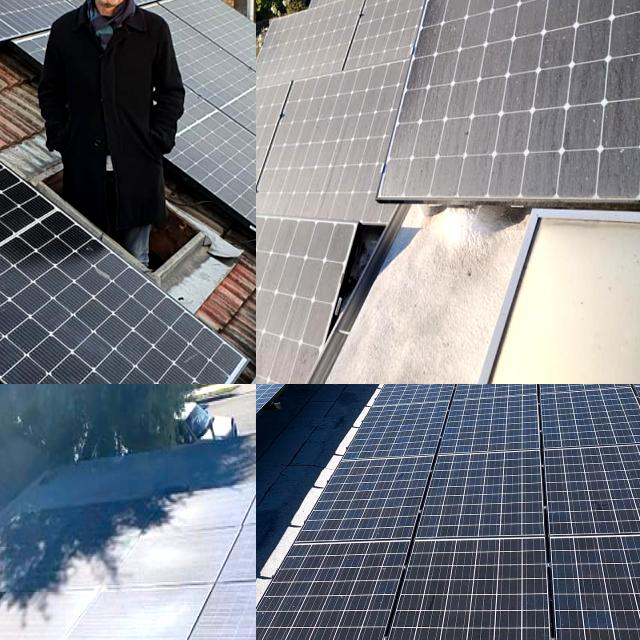crack: (0, 254, 192, 384), (0, 194, 80, 311), (67, 339, 172, 384), (211, 133, 256, 207)
dust: (429, 0, 640, 188), (294, 88, 368, 215), (256, 213, 297, 384), (550, 0, 640, 68), (94, 592, 173, 640), (274, 22, 339, 72), (142, 537, 213, 582), (426, 0, 539, 26), (213, 585, 256, 640), (167, 496, 240, 522), (256, 101, 276, 194), (367, 0, 397, 55), (0, 617, 46, 640), (331, 0, 404, 11)
